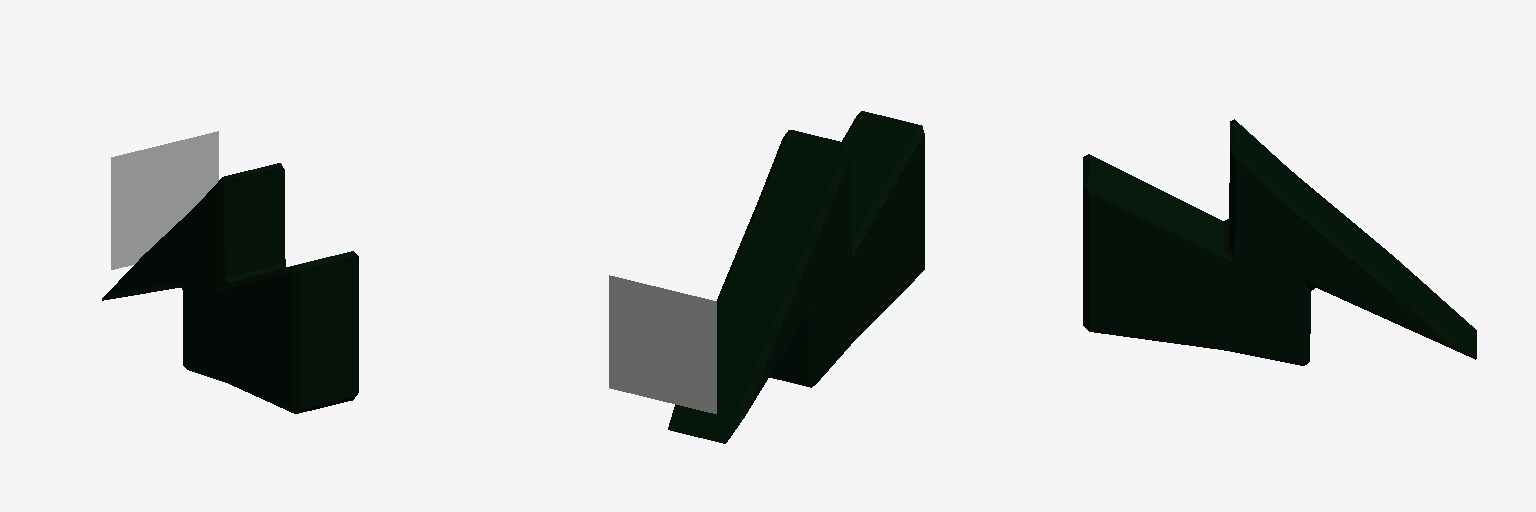
Rendered from artifact_fuel.obj.
3 views of the same model, side by side, from view 1: azimuth 30°, elevation 25°; view 2: azimuth 150°, elevation 25°; view 3: azimuth 270°, elevation 25° (orthographic).
Parts seen in each view (by area): view 1: Plane.001, Plane; view 2: Plane.001, Plane; view 3: Plane.001.
Boxes of the visible parts, x1,y1,x2,y2 form: Plane.001: [102, 163, 358, 413]; Plane: [111, 131, 218, 269]; Plane.001: [668, 111, 924, 443]; Plane: [609, 275, 716, 413]; Plane.001: [1083, 119, 1476, 365].
Bounding box in the file's own units: 2.27 × 3.87 × 6.31.